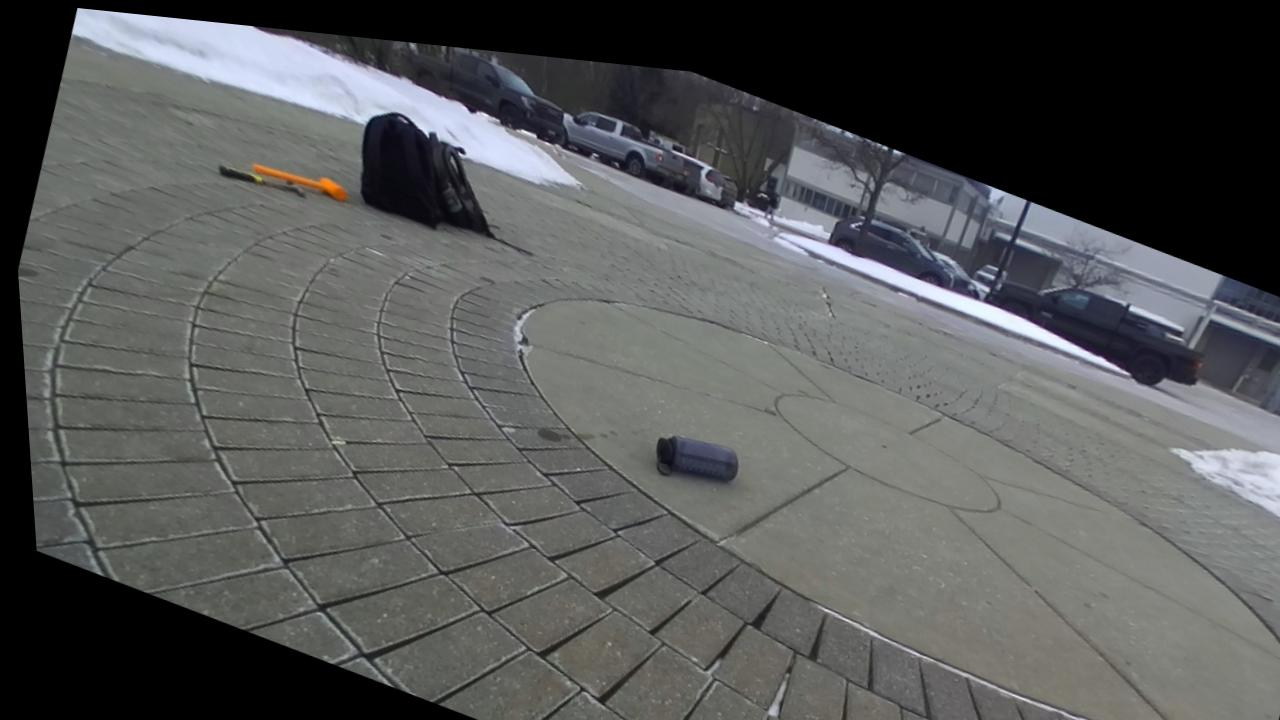bottle: (656, 436, 737, 481)
mallet: (253, 165, 346, 201)
pick: (220, 165, 305, 197)
